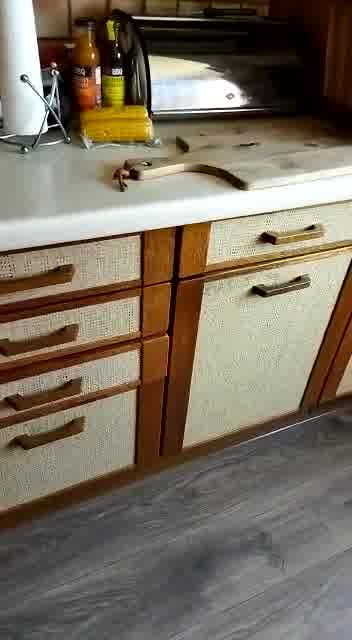cabinet_door: (177, 268, 352, 450), (0, 411, 175, 495), (1, 233, 174, 299), (0, 301, 175, 358), (184, 216, 352, 268), (0, 363, 174, 407)
handle: (0, 373, 92, 415), (6, 411, 92, 453), (0, 319, 82, 363), (0, 261, 80, 297), (246, 267, 314, 305), (257, 218, 327, 248)
